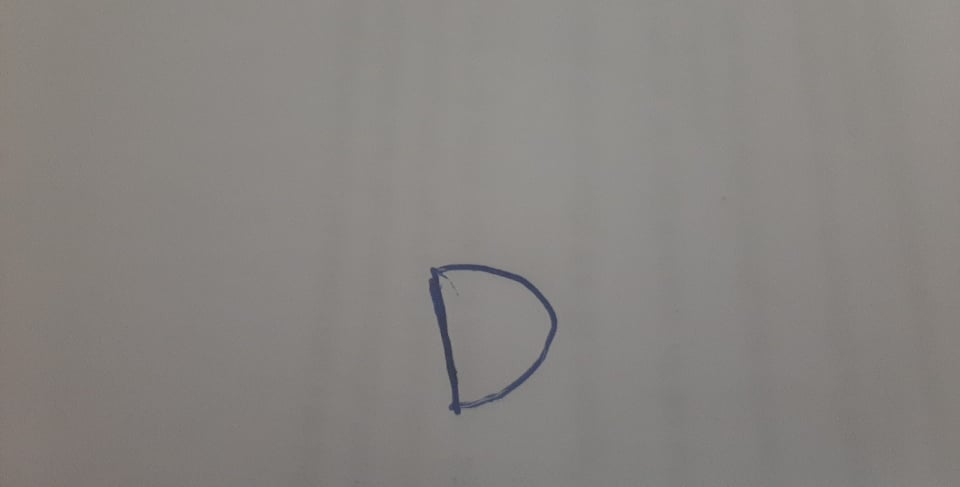and: (416, 254, 562, 420)
